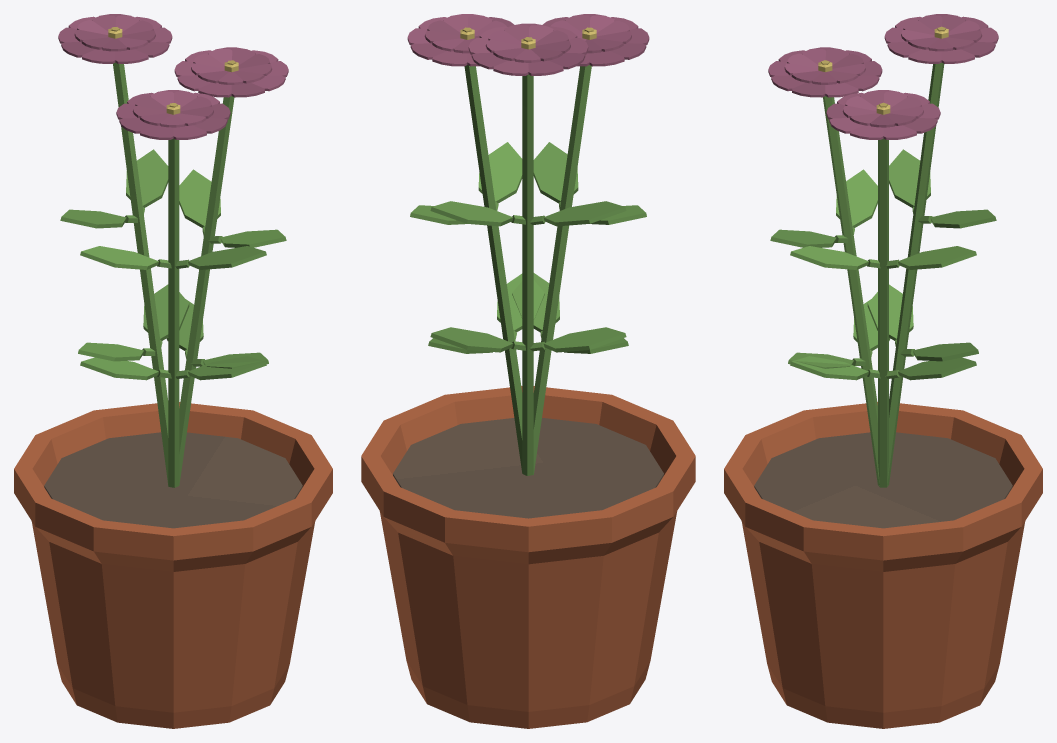
File: zinnia.glb
The picture shows the model from 3 angles, left to right: view 1: azimuth 30°, elevation 25°; view 2: azimuth 150°, elevation 25°; view 3: azimuth 270°, elevation 25°; orthographic projection. The views are drawn at different scales.
Visible parts, largest first — view 1: zinnia/review-terra-vessel, zinnia/review-rooted-soil, zinnia/petiole-059, zinnia/petiole-030, zinnia/petiole-001, zinnia/leaf-009, zinnia/leaf-036, zinnia/leaf-065, zinnia/leaf-067, zinnia/leaf-061, zinnia/leaf-063, zinnia/leaf-032 (+4 smaller); view 2: zinnia/review-terra-vessel, zinnia/review-rooted-soil, zinnia/petiole-030, zinnia/petiole-059, zinnia/petiole-001, zinnia/leaf-007, zinnia/leaf-067, zinnia/leaf-032, zinnia/leaf-034, zinnia/leaf-036, zinnia/leaf-038, zinnia/leaf-003 (+1 smaller); view 3: zinnia/review-terra-vessel, zinnia/review-rooted-soil, zinnia/petiole-030, zinnia/petiole-001, zinnia/petiole-059, zinnia/leaf-038, zinnia/leaf-065, zinnia/leaf-007, zinnia/leaf-009, zinnia/leaf-005, zinnia/leaf-003, zinnia/leaf-032 (+4 smaller).
Boxes of the visible parts, <box> form: zinnia/review-terra-vessel: <box>14,402,332,728</box>; zinnia/review-rooted-soil: <box>44,432,302,528</box>; zinnia/petiole-059: <box>168,138,179,487</box>; zinnia/petiole-030: <box>113,62,168,484</box>; zinnia/petiole-001: <box>179,96,234,485</box>; zinnia/leaf-009: <box>179,169,220,227</box>; zinnia/leaf-036: <box>126,149,168,207</box>; zinnia/leaf-065: <box>80,246,158,269</box>; zinnia/leaf-067: <box>188,246,266,269</box>; zinnia/leaf-061: <box>80,357,158,380</box>; zinnia/leaf-063: <box>188,356,266,380</box>; zinnia/leaf-032: <box>143,284,189,340</box>; zinnia/review-terra-vessel: <box>361,386,695,728</box>; zinnia/review-rooted-soil: <box>393,418,663,518</box>; zinnia/petiole-030: <box>522,74,533,475</box>; zinnia/petiole-059: <box>533,65,591,474</box>; zinnia/petiole-001: <box>464,65,522,473</box>; zinnia/leaf-007: <box>478,142,522,203</box>; zinnia/leaf-067: <box>533,142,578,203</box>; zinnia/leaf-032: <box>430,327,513,352</box>; zinnia/leaf-034: <box>543,327,626,352</box>; zinnia/leaf-036: <box>430,201,513,226</box>; zinnia/leaf-038: <box>543,201,626,226</box>; zinnia/leaf-003: <box>497,273,544,332</box>; zinnia/review-terra-vessel: <box>724,402,1042,728</box>; zinnia/review-rooted-soil: <box>754,432,1012,528</box>; zinnia/petiole-030: <box>887,62,944,486</box>; zinnia/petiole-001: <box>878,138,888,487</box>; zinnia/petiole-059: <box>823,96,879,486</box>; zinnia/leaf-038: <box>889,149,930,207</box>; zinnia/leaf-065: <box>836,169,877,227</box>; zinnia/leaf-007: <box>790,246,868,269</box>; zinnia/leaf-009: <box>898,246,976,269</box>; zinnia/leaf-005: <box>898,357,976,380</box>; zinnia/leaf-003: <box>790,356,868,380</box>; zinnia/leaf-032: <box>913,342,978,361</box>.
Size of the model in its own units: 0.19 by 0.4201 by 0.19.
5 materials, 5 textured.
